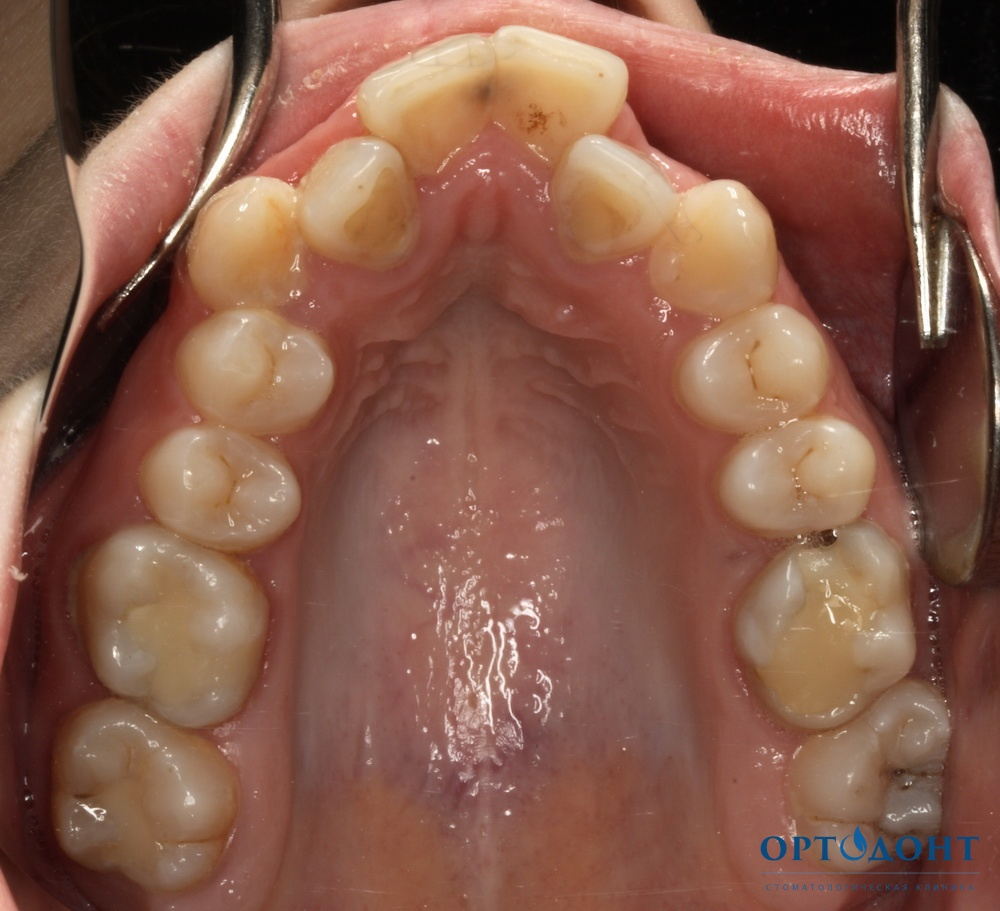UL1BC_decay: (673, 301, 836, 433)
UL1M_healthy: (728, 529, 914, 731)
UL2BC_decay: (719, 421, 876, 539)
UL2M_decay: (790, 685, 941, 815)
ULCI_decay: (496, 32, 627, 161)
ULC_healthy: (639, 174, 776, 326)
ULLI_healthy: (556, 137, 665, 261)
UR1BC_healthy: (176, 304, 337, 433)
UR1M_healthy: (80, 519, 269, 730)
UR2BC_healthy: (137, 427, 301, 554)
UR2M_healthy: (52, 693, 241, 896)
URCI_decay: (363, 41, 492, 178)
URC_healthy: (207, 200, 324, 312)
URLI_decay: (300, 134, 422, 270)
